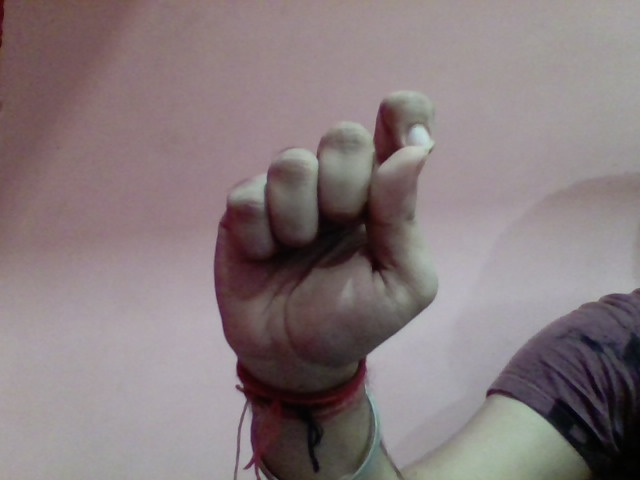u: (196, 86, 464, 377)
